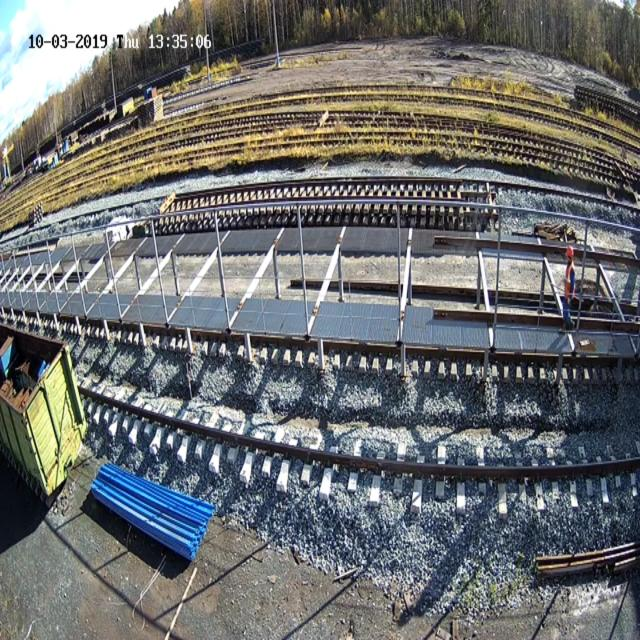Helmet: (566, 245, 574, 258)
Person: (562, 245, 576, 330)
